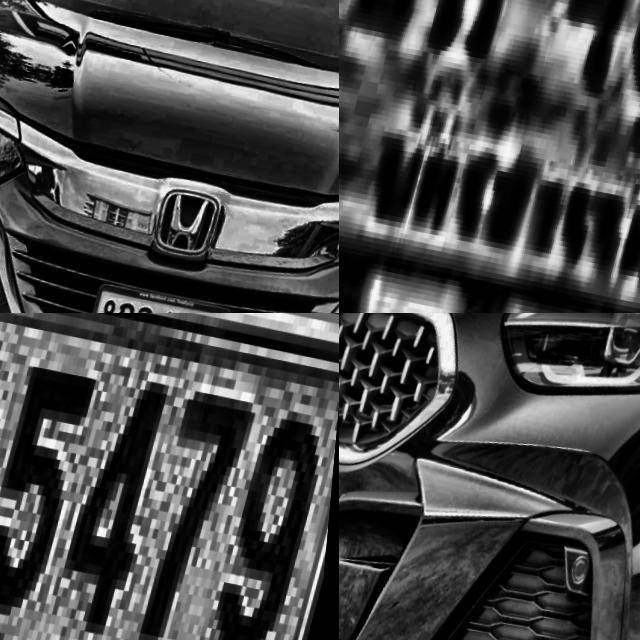license-plate: (0, 313, 339, 640), (339, 0, 640, 313), (85, 280, 244, 313)
